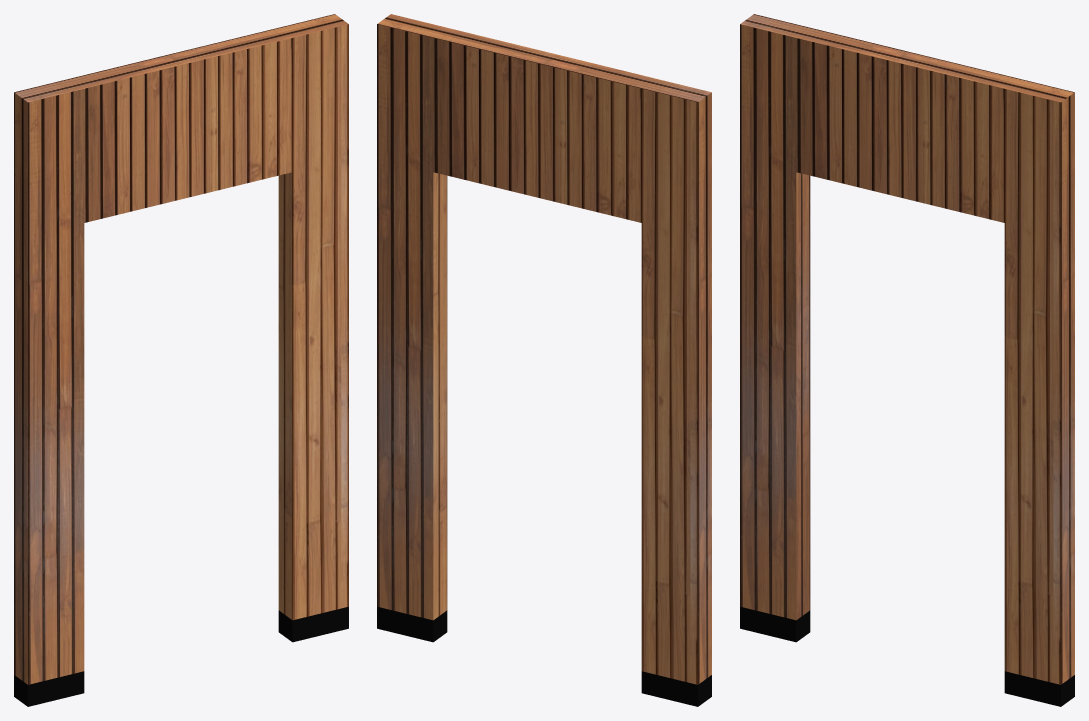
File: ARC0210006.fbx
The picture shows the model from 3 angles, left to right: view 1: azimuth 30°, elevation 25°; view 2: azimuth 150°, elevation 25°; view 3: azimuth 330°, elevation 25°; orthographic projection.
Parts seen in each view (by area): view 1: smARC0210006; view 2: smARC0210006; view 3: smARC0210006.
Boxes of the visible parts, bbox=[...] form: smARC0210006: bbox=[14, 14, 348, 706]; smARC0210006: bbox=[377, 14, 711, 706]; smARC0210006: bbox=[740, 14, 1074, 706].
Size of the model in its own units: 182 by 328 by 13.67.
1 material, 1 textured.
